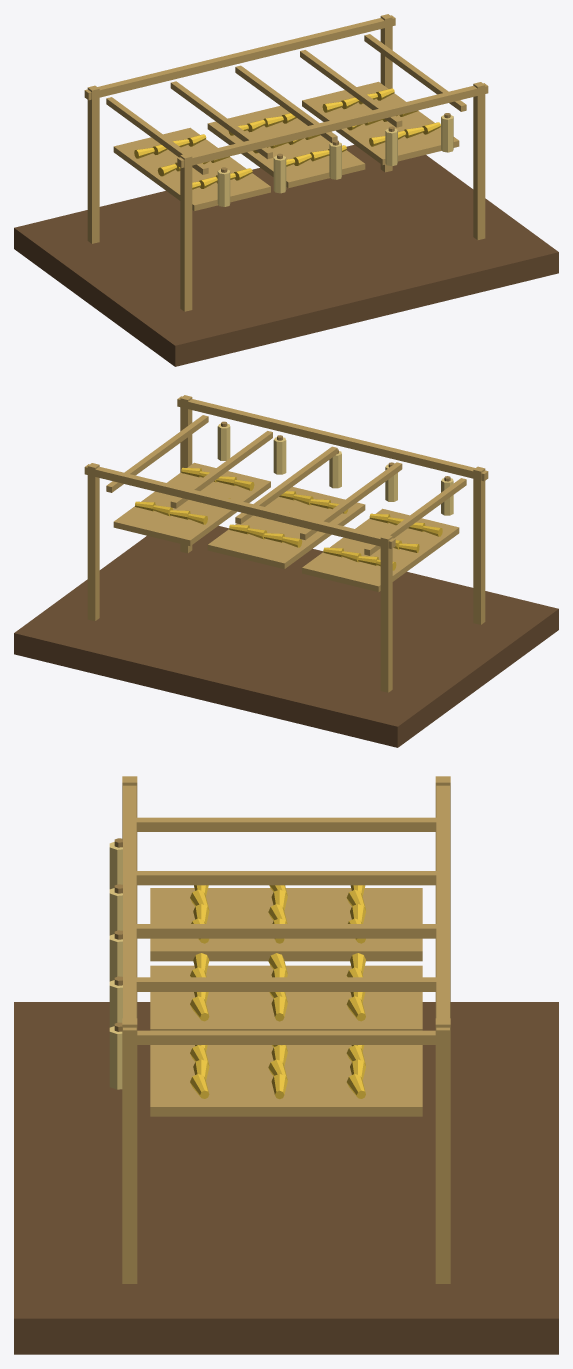
Rendered from crop_drying_rack.glb.
3 renders of one model, top to bottom at view 1: azimuth 30°, elevation 25°; view 2: azimuth 150°, elevation 25°; view 3: azimuth 270°, elevation 25°, orthographic. The views are drawn at different scales.
Visible parts, largest first — view 1: TerrainBase, DryingTray, DryingTray.002, DryingTray.001, RackBeam.001, RackBeam, RackPost, RackPost.001, RackPost.002, RackCrossbar.004, RackCrossbar.001, RackCrossbar.003 (+8 smaller); view 2: TerrainBase, DryingTray.002, DryingTray.001, DryingTray, RackBeam, RackBeam.001, RackPost.001, RackPost, RackPost.003, RackCrossbar.002, RackCrossbar.004, RackCrossbar.001 (+5 smaller); view 3: TerrainBase, DryingTray.002, DryingTray, DryingTray.001, RackCrossbar.002, RackCrossbar.003, RackCrossbar, RackCrossbar.001, RackCrossbar.004, RackPost.002, RackPost.003, RackBeam (+3 smaller).
Part boxes in pixels (left/top/right/bottom): TerrainBase: left=14, top=144, right=558, bottom=366; DryingTray: left=113, top=127, right=270, bottom=211; DryingTray.002: left=302, top=81, right=459, bottom=165; DryingTray.001: left=207, top=105, right=365, bottom=188; RackBeam.001: left=84, top=15, right=395, bottom=100; RackBeam: left=177, top=83, right=488, bottom=167; RackPost: left=180, top=153, right=192, bottom=311; RackPost.001: left=87, top=85, right=99, bottom=243; RackPost.002: left=473, top=82, right=485, bottom=239; RackCrossbar.004: left=364, top=34, right=466, bottom=111; RackCrossbar.001: left=170, top=81, right=272, bottom=159; RackCrossbar.003: left=300, top=50, right=402, bottom=127; TerrainBase: left=14, top=525, right=558, bottom=747; DryingTray.002: left=113, top=462, right=270, bottom=546; DryingTray.001: left=207, top=486, right=365, bottom=569; DryingTray: left=302, top=508, right=459, bottom=592; RackBeam: left=177, top=396, right=488, bottom=481; RackBeam.001: left=84, top=464, right=395, bottom=548; RackPost.001: left=380, top=534, right=392, bottom=692; RackPost: left=473, top=466, right=485, bottom=624; RackPost.003: left=87, top=463, right=99, bottom=620; RackCrossbar.002: left=235, top=446, right=337, bottom=524; RackCrossbar.004: left=106, top=415, right=208, bottom=492; RackCrossbar.001: left=300, top=462, right=402, bottom=540; TerrainBase: left=14, top=1002, right=558, bottom=1354; DryingTray.002: left=150, top=1045, right=422, bottom=1116; DryingTray: left=150, top=888, right=422, bottom=961; DryingTray.001: left=150, top=965, right=422, bottom=1030; RackCrossbar.002: left=136, top=924, right=436, bottom=938; RackCrossbar.003: left=136, top=977, right=436, bottom=991; RackCrossbar: left=136, top=817, right=436, bottom=831; RackCrossbar.001: left=136, top=871, right=436, bottom=885; RackCrossbar.004: left=137, top=1030, right=435, bottom=1044; RackPost.002: left=122, top=1018, right=137, bottom=1283; RackPost.003: left=435, top=1018, right=450, bottom=1283; RackBeam: left=123, top=785, right=136, bottom=1042.
Size of the model in its own units: 11 by 4.79 by 8.
